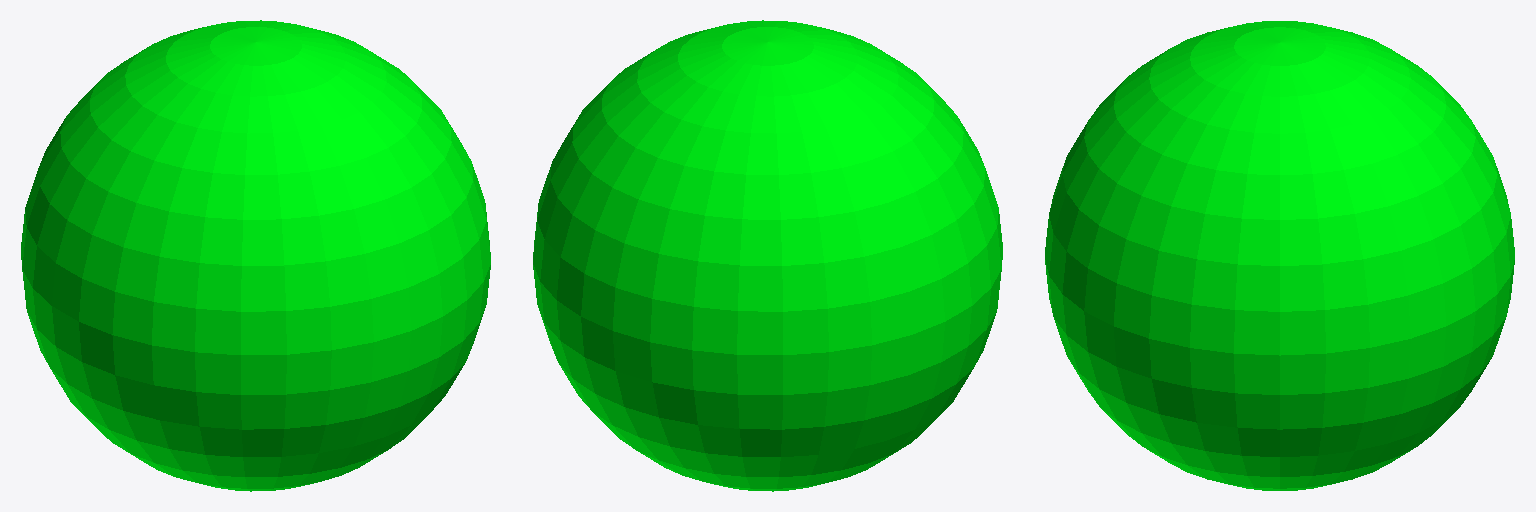
robot.urdf — green_sphere:
<?xml version="1.0"?>
<robot name="green_sphere">
  <link name="base_link">
    <visual>
      <geometry>
        <sphere radius="0.03"/>
      </geometry>
      <material name="green">
            <color rgba="0 1 0.1 1"/>
      </material>
    </visual>
    <inertial>
        <origin xyz="0 0 0" rpy="0 0 0" />
        <mass value="0" />
        <inertia ixx="0.0" ixy="0.0" ixz="0.0" iyy="0.0" iyz="0.0" izz="0.0" />
     </inertial>
  </link>
</robot>

--- Facts derived from the render (not from the file) ---
3 views of the same robot in one strip: view 1: azimuth 30°, elevation 25°; view 2: azimuth 150°, elevation 25°; view 3: azimuth 270°, elevation 25° (orthographic).
Robot: green_sphere — 1 links, 0 joints (none); root link base_link; default pose: all joints at 0.
Visible links, largest first — view 1: base_link; view 2: base_link; view 3: base_link.
Boxes of the visible links, x1=… form: base_link: x1=21, y1=20, x2=490, y2=491; base_link: x1=533, y1=20, x2=1002, y2=491; base_link: x1=1045, y1=21, x2=1514, y2=490.
Bounding box of the posed robot: 0.06 × 0.06 × 0.06 m (x, y, z).
Geometry: primitives only (box / cylinder / sphere), no mesh files.